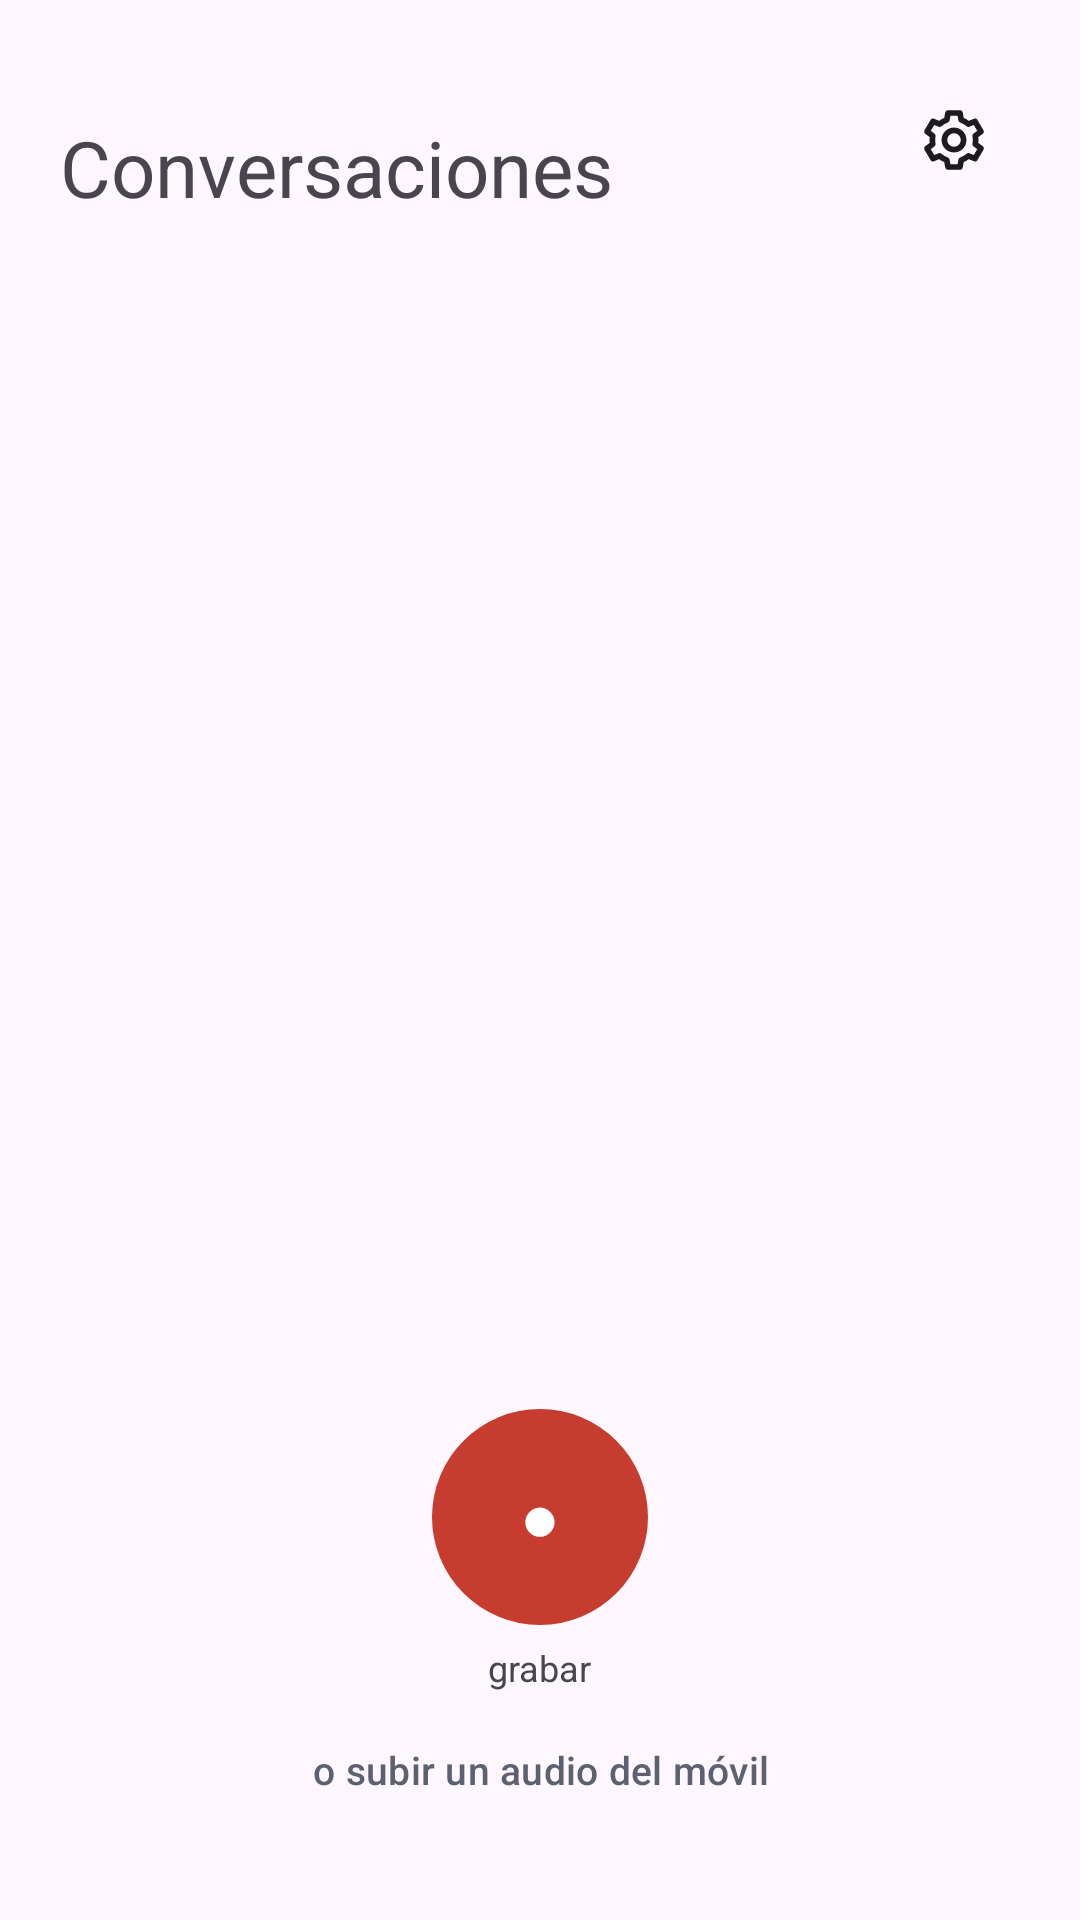

Locate icon controls on the screen. Image size 1080*1920, boxes as (x1, y1, x2, y2).
Abrir ajustes: (924, 110, 984, 170)
